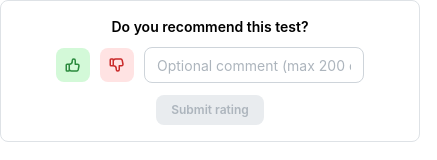
Test: RatingCard › shows a quiet failure message on API error
What coordinates should you click on to do the following:
click the button with test id "rating-down"
I would click on:
 (117, 65)
Its box is [100, 48, 134, 82].
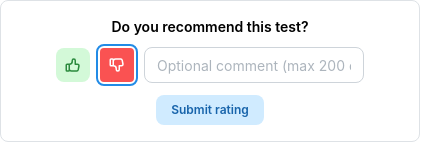
What coordinates should you click on to do the following:
click the button with test id "rating-submit"
I would click on:
 (210, 110)
Its box is [156, 95, 264, 125].
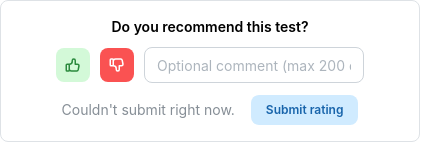
Expected: the text "Couldn't submit right now." is shown, [62, 100, 235, 120]
